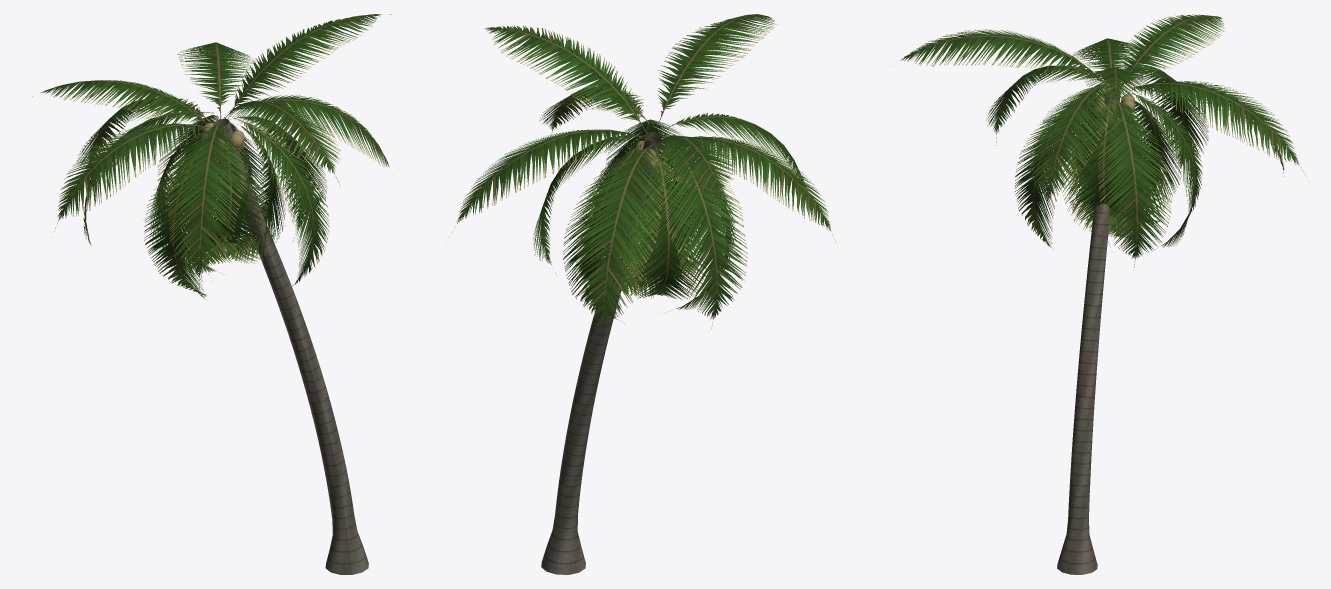
File: palm_curved.glb
3 views of the same model, side by side, from view 1: azimuth 30°, elevation 25°; view 2: azimuth 150°, elevation 25°; view 3: azimuth 270°, elevation 25° (orthographic). The views are drawn at different scales.
Visible parts, largest first — view 1: palm_curved; view 2: palm_curved; view 3: palm_curved.
Boxes of the visible parts, x1=… form: palm_curved: x1=32, y1=14, x2=391, y2=574; palm_curved: x1=451, y1=14, x2=834, y2=574; palm_curved: x1=900, y1=14, x2=1306, y2=574.
Size of the model in its own units: 7.18 by 9.86 by 8.03.
3 materials, 2 textured.
